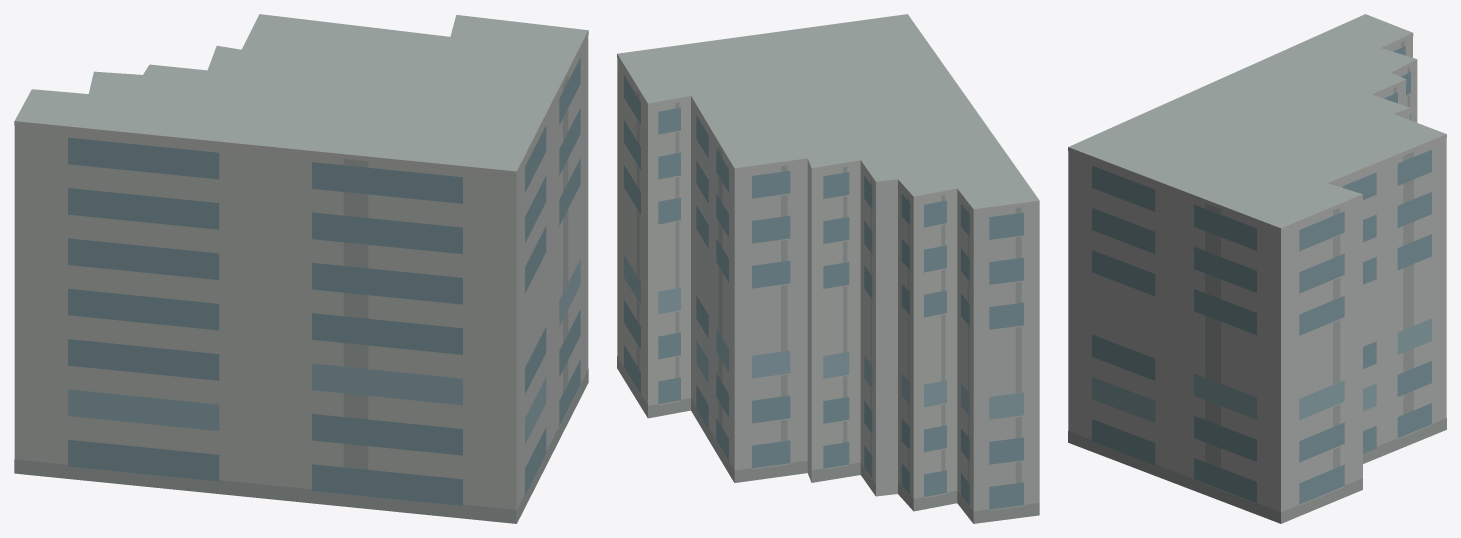
File: survey-upis-32712066.glb
3 views of the same model, side by side, from view 1: azimuth 30°, elevation 25°; view 2: azimuth 150°, elevation 25°; view 3: azimuth 270°, elevation 25° (orthographic). The views are drawn at different scales.
Parts seen in each view (by area): view 1: survey-upis-32712066.tmp; view 2: survey-upis-32712066.tmp; view 3: survey-upis-32712066.tmp.
Part boxes in pixels (left/top/right/bottom): survey-upis-32712066.tmp: left=14, top=14, right=588, bottom=523; survey-upis-32712066.tmp: left=617, top=14, right=1039, bottom=523; survey-upis-32712066.tmp: left=1068, top=14, right=1446, bottom=523.
Size of the model in its own units: 28.3 by 18.2 by 21.13.
